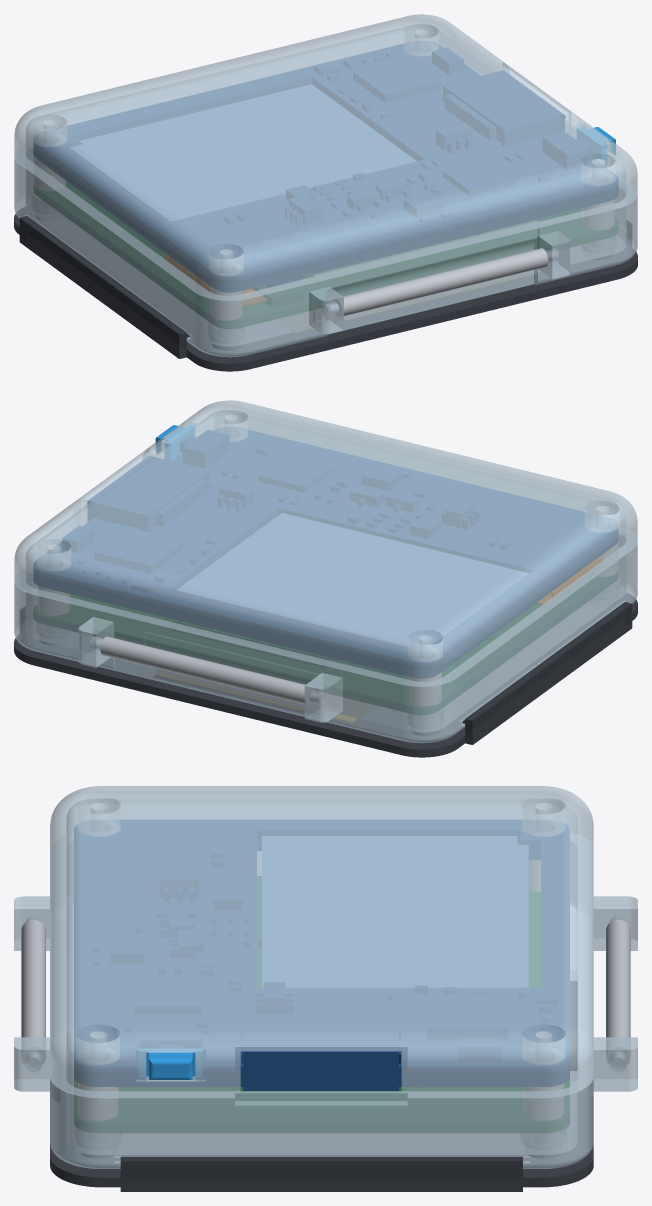
The model's file is assembly.glb.
The picture shows the model from 3 angles, top to bottom: view 1: azimuth 30°, elevation 25°; view 2: azimuth 150°, elevation 25°; view 3: azimuth 270°, elevation 25°; orthographic projection. The views are drawn at different scales.
Parts seen in each view (by area): view 1: cover, MCU_U9_full_588, tray, battery_302025, cap_bottom, AFE_30P_full_338, south_spring_bar, side_button, standoff_SW, standoff_SE; view 2: cover, MCU_U9_full_588, tray, battery_302025, cap_bottom, AFE_30P_full_338, north_spring_bar, side_button, standoff_NW, standoff_NE; view 3: cover, MCU_U9_full_588, tray, battery_302025, cap_bottom, AFE_30P_full_338, south_spring_bar, north_spring_bar, side_button, standoff_SE, standoff_NE.
Boxes of the visible parts, bbox=[...] form: cover: bbox=[14, 14, 637, 300]; MCU_U9_full_588: bbox=[33, 44, 618, 292]; tray: bbox=[14, 144, 637, 357]; battery_302025: bbox=[69, 84, 416, 221]; cap_bottom: bbox=[14, 207, 637, 371]; AFE_30P_full_338: bbox=[34, 181, 617, 328]; south_spring_bar: bbox=[327, 248, 553, 316]; side_button: bbox=[577, 127, 615, 165]; standoff_SW: bbox=[210, 287, 242, 319]; standoff_SE: bbox=[582, 200, 614, 229]; cover: bbox=[14, 400, 637, 686]; MCU_U9_full_588: bbox=[33, 430, 618, 678]; tray: bbox=[14, 530, 637, 743]; battery_302025: bbox=[176, 513, 528, 648]; cap_bottom: bbox=[14, 593, 637, 757]; AFE_30P_full_338: bbox=[34, 573, 617, 714]; north_spring_bar: bbox=[95, 636, 321, 704]; side_button: bbox=[155, 425, 194, 460]; standoff_NW: bbox=[410, 672, 441, 705]; standoff_NE: bbox=[38, 586, 69, 614]; cover: bbox=[50, 786, 593, 1097]; MCU_U9_full_588: bbox=[74, 820, 569, 1090]; tray: bbox=[14, 836, 637, 1168]; battery_302025: bbox=[262, 836, 528, 987]; cap_bottom: bbox=[50, 981, 593, 1191]; AFE_30P_full_338: bbox=[74, 876, 569, 1132]; south_spring_bar: bbox=[21, 919, 45, 1066]; north_spring_bar: bbox=[606, 919, 630, 1066]; side_button: bbox=[139, 1049, 202, 1079]; standoff_SE: bbox=[78, 1083, 118, 1120]; standoff_NE: bbox=[524, 1084, 563, 1120].
Size of the model in its own units: 0.0485 by 0.0128 by 0.0459.
